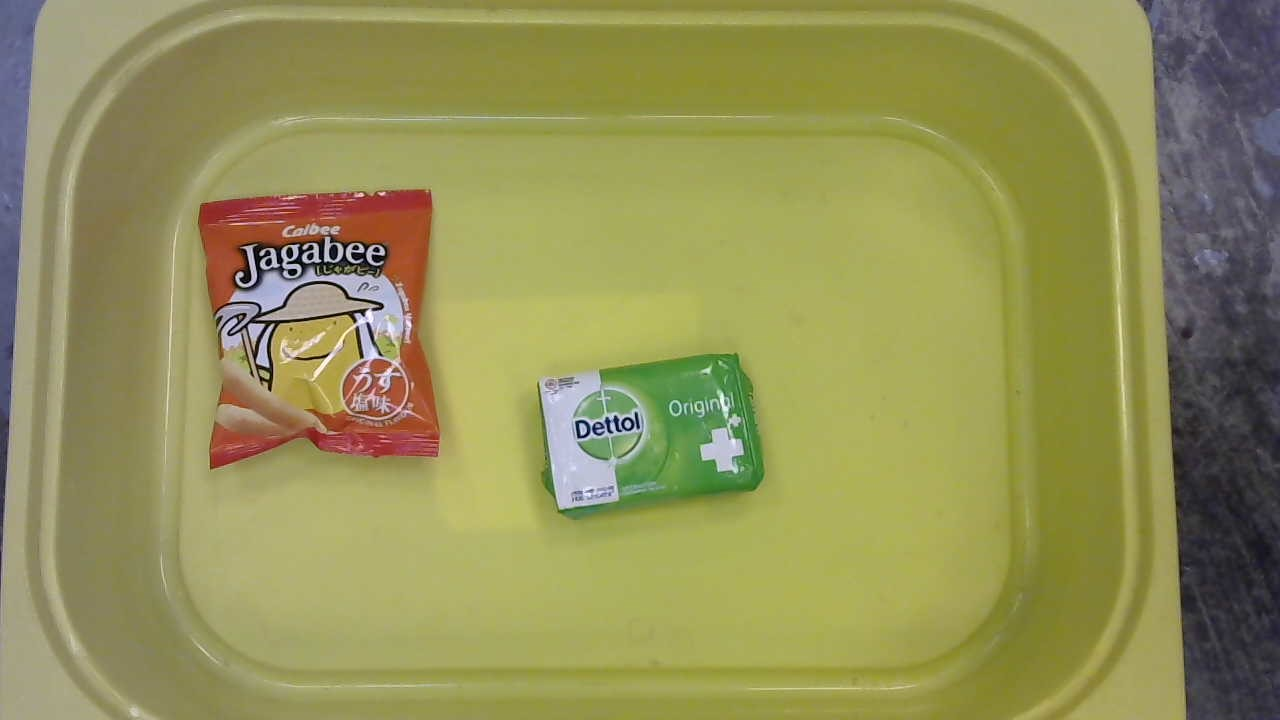Dettol: (525, 349, 774, 526)
JagabeeFarmer: (187, 185, 451, 475)
